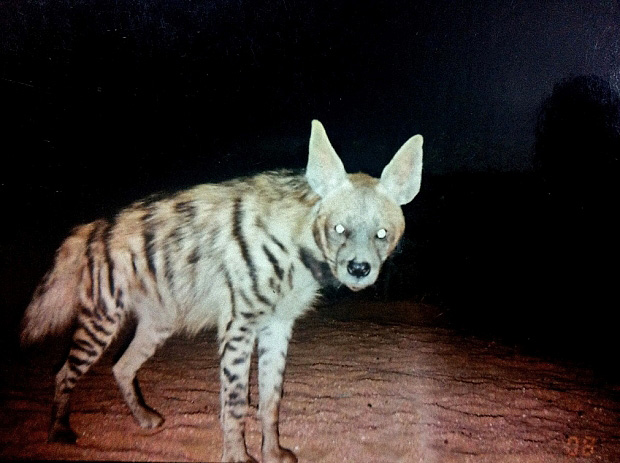hyena: (27, 118, 434, 451)
